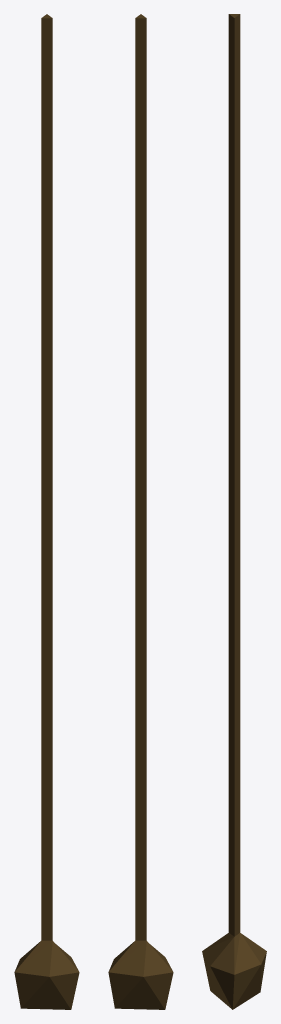
File: NW_MISC_HANGROPE.OBJ
3 views of the same model, side by side, from view 1: azimuth 90°, elevation 25°; view 2: azimuth 210°, elevation 25°; view 3: azimuth 270°, elevation 25° (orthographic).
Visible parts, largest first — view 1: NW_MISC_HANGROPE; view 2: NW_MISC_HANGROPE; view 3: NW_MISC_HANGROPE.
Boxes of the visible parts, x1,y1,x2,y2 form: NW_MISC_HANGROPE: (14, 14, 79, 1009); NW_MISC_HANGROPE: (108, 14, 173, 1009); NW_MISC_HANGROPE: (202, 14, 266, 1009).
Size of the model in its own units: 0.2055 by 3.32 by 0.1989.
